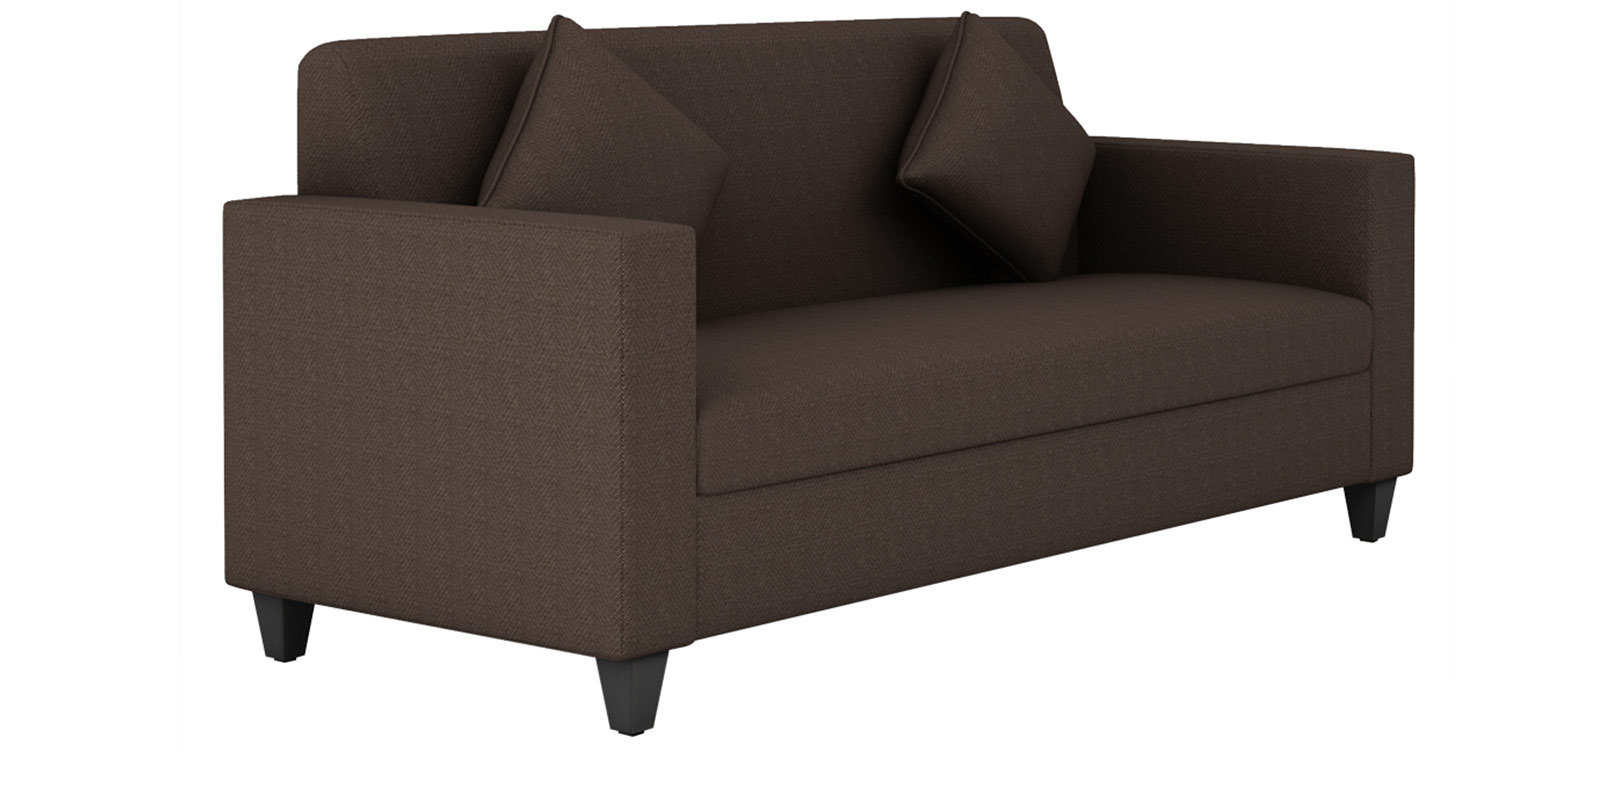Cooper Three Seater Sofa by ARRA: (214, 11, 1419, 677)
